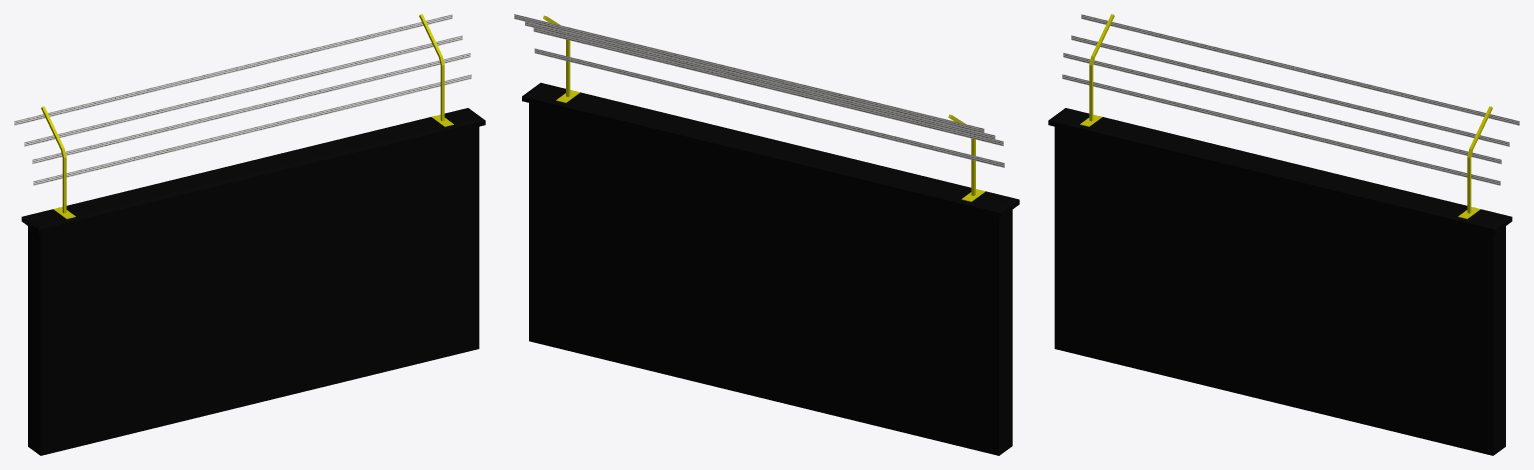
File: Wall_Single.fbx
3 renders of one model, left to right at view 1: azimuth 30°, elevation 25°; view 2: azimuth 150°, elevation 25°; view 3: azimuth 330°, elevation 25°, orthographic. The views are drawn at different scales.
Visible parts, largest first — view 1: Wall; view 2: Wall; view 3: Wall.
Part boxes in pixels (x1,y1,x2,y2): Wall: [14, 14, 485, 455]; Wall: [514, 14, 1019, 455]; Wall: [1048, 14, 1519, 455].
Bounding box in the file's own units: 6.11 × 4.21 × 0.7342.
